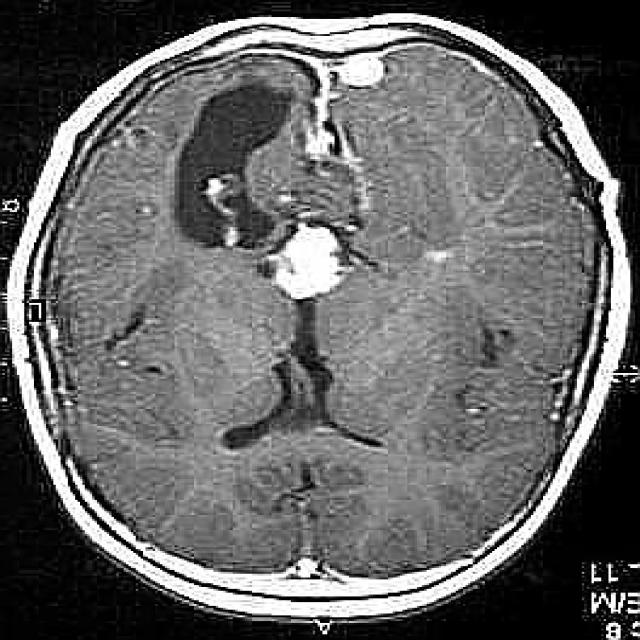Tumor-Cell: (192, 86, 384, 319)
